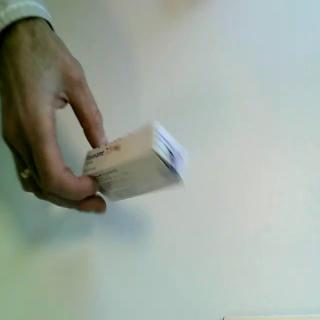imovane7-5mg: (82, 117, 192, 203)
